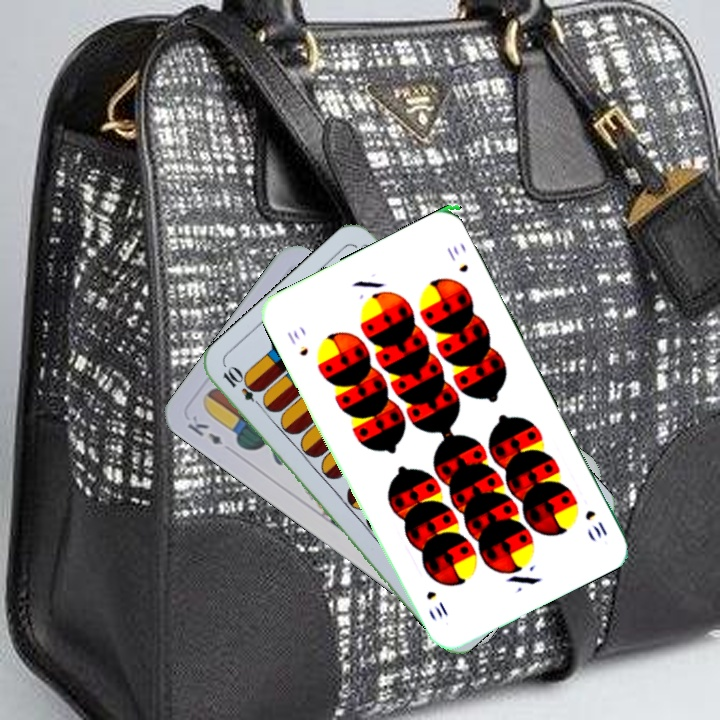E10: (218, 363, 268, 412)
EK: (183, 411, 225, 448)
S10: (581, 505, 610, 541), (282, 326, 311, 359)
